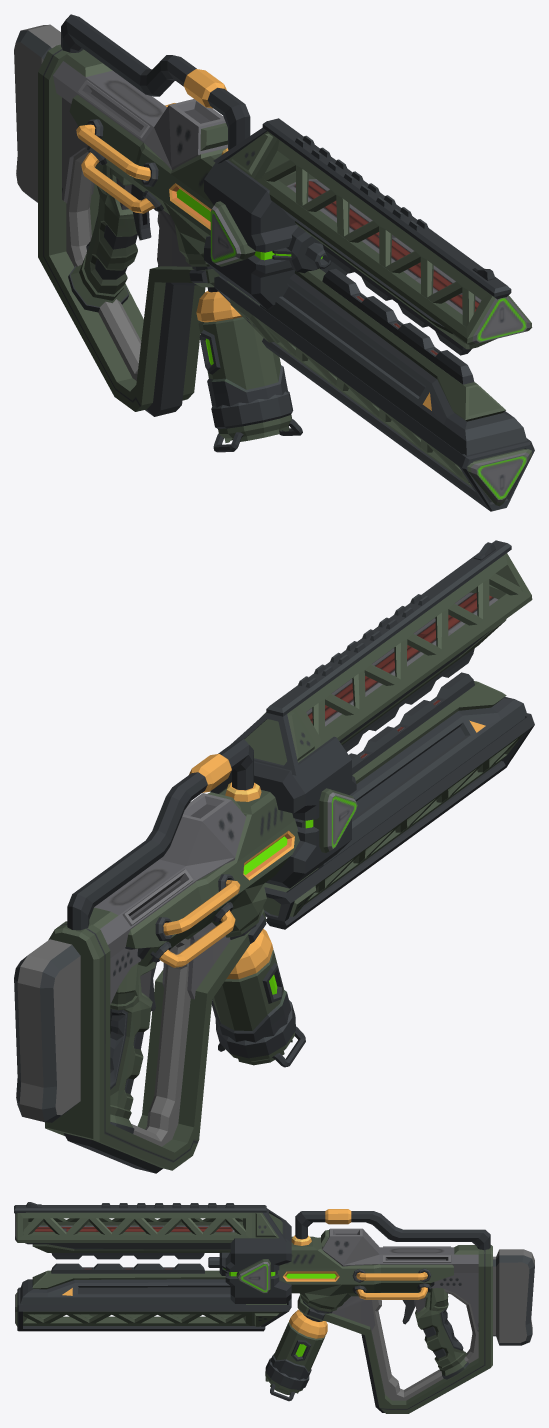
File: SM_Wep_ArcRifle_01.fbx
3 views of the same model, one above another, from view 1: azimuth 30°, elevation 25°; view 2: azimuth 150°, elevation 25°; view 3: azimuth 270°, elevation 25° (orthographic). The views are drawn at different scales.
Parts seen in each view (by area): view 1: SM_Wep_ArcRifle_01; view 2: SM_Wep_ArcRifle_01; view 3: SM_Wep_ArcRifle_01.
Part boxes in pixels (x1,y1,x2,y2): SM_Wep_ArcRifle_01: (14, 14, 534, 511); SM_Wep_ArcRifle_01: (14, 540, 534, 1173); SM_Wep_ArcRifle_01: (14, 1202, 534, 1413).
Bounding box in the file's own units: 53.38 × 164 × 373.
